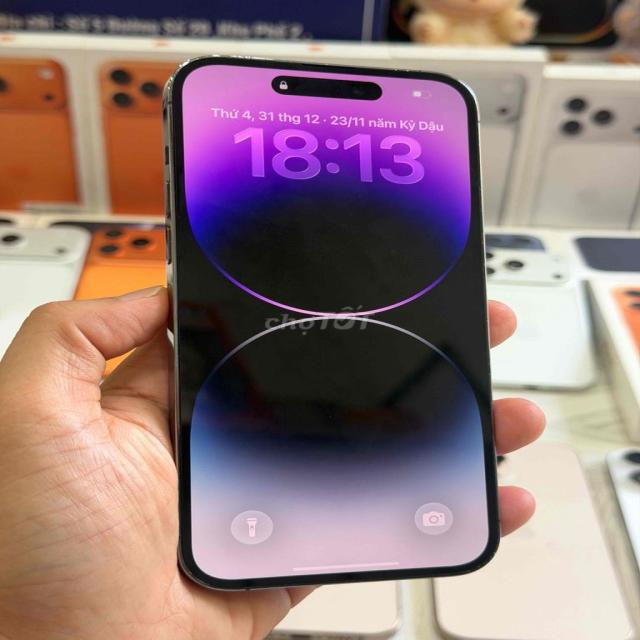gen_14: (158, 44, 511, 603)
